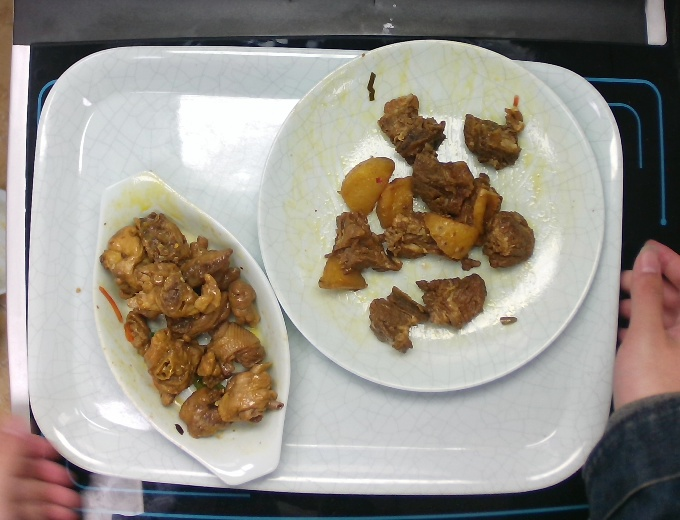JYsf-Da_Yuan_Pan: (253, 26, 610, 404)
JYsf-Yu_Pan: (87, 164, 307, 490)
